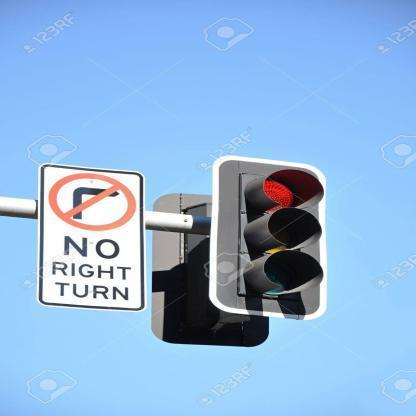Red Light: (217, 160, 328, 320)
